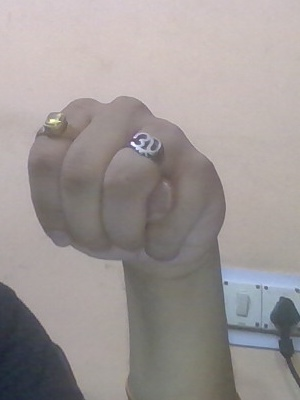M: (19, 87, 249, 300)
